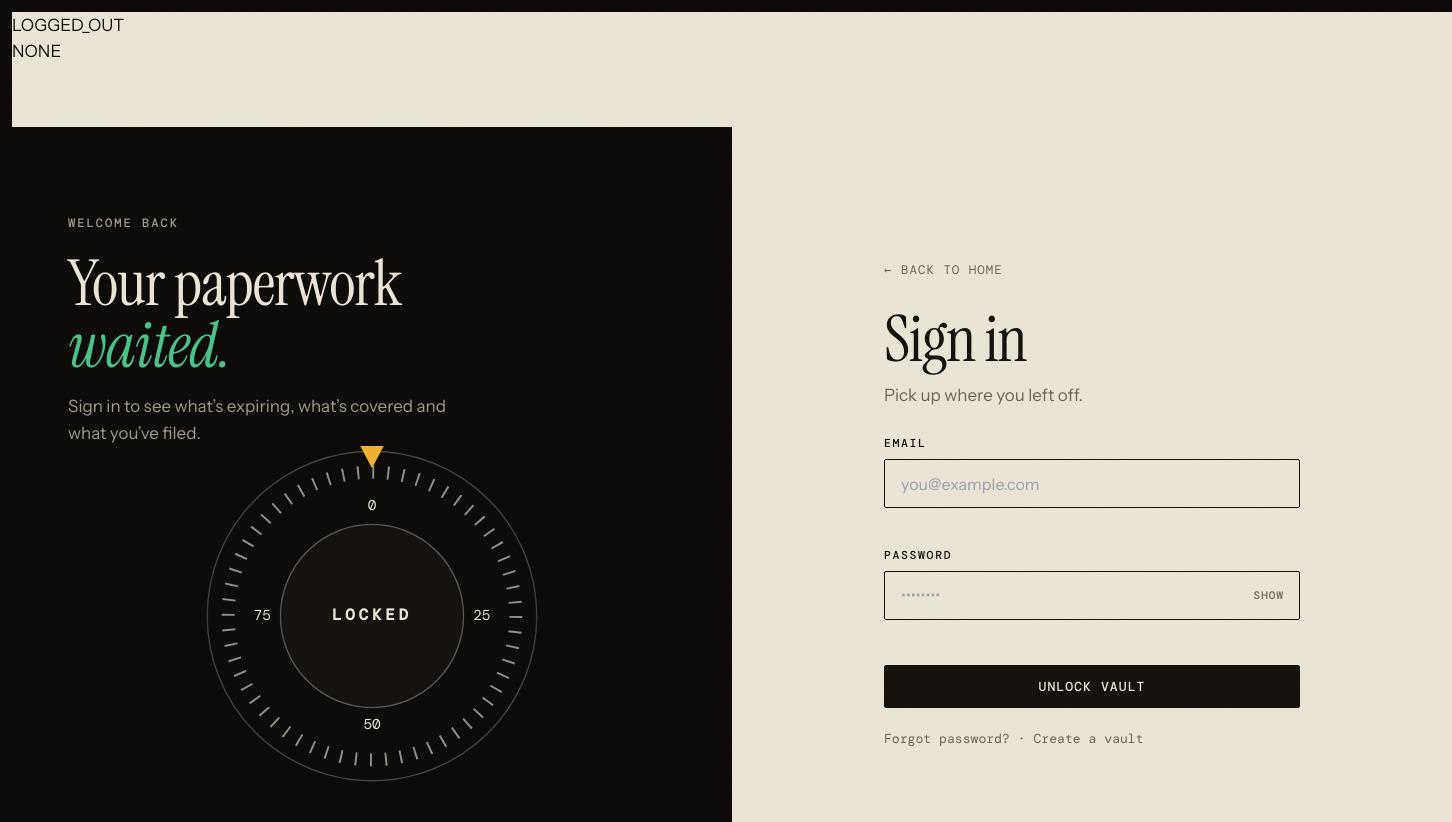
Scenario: Authentication Flow & Verification (Email & Password) › Checklist 4: Wrong password shows generic error and rejects login
Type "member@vault.com" into the field with placeholder "you@example.com" at coordinates (1092, 484), box x1=884 y1=459 x2=1300 y2=508
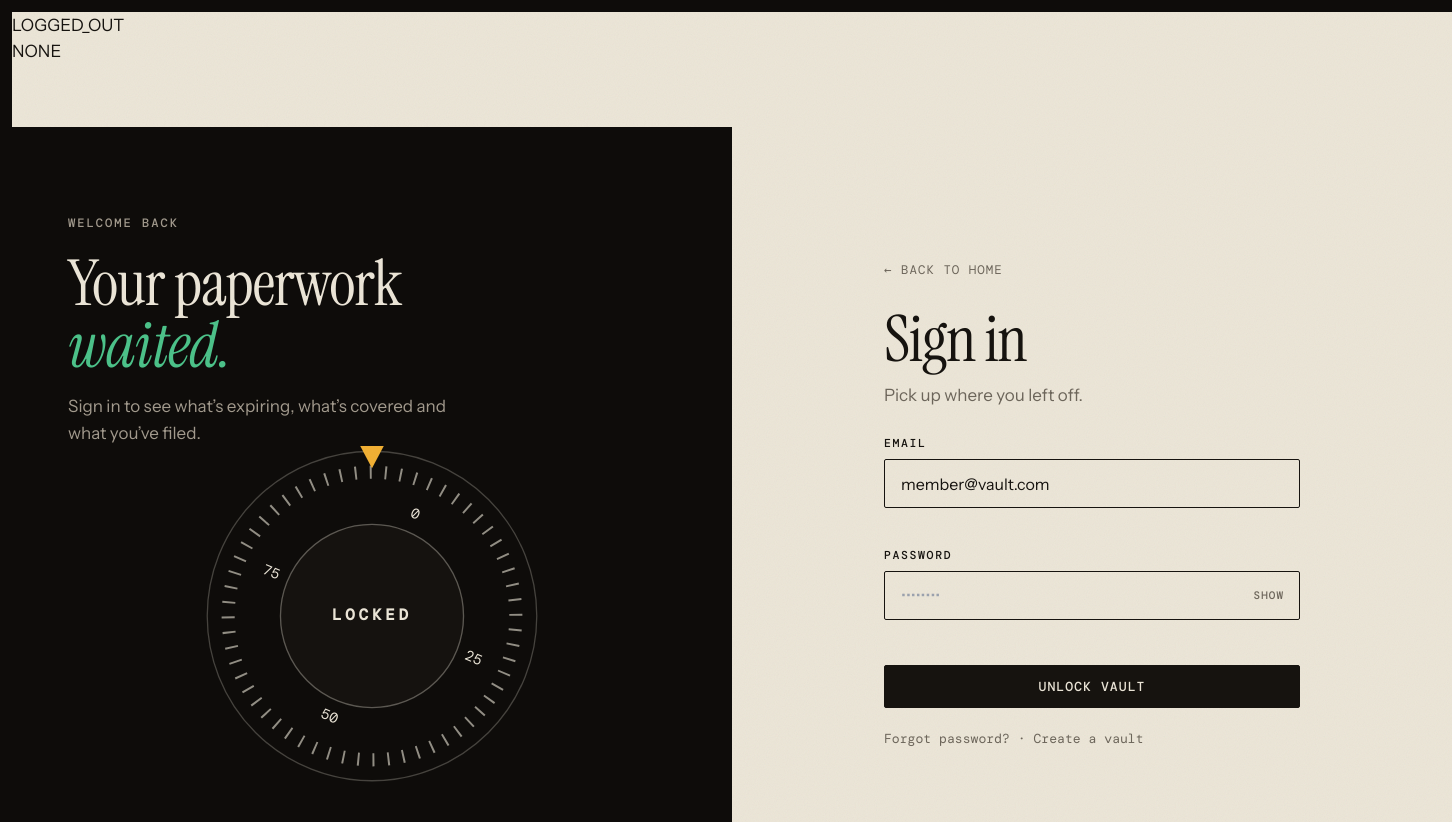
Type "WrongMasterKey99" into the password field with placeholder "••••••••" at coordinates (1092, 595), box x1=884 y1=571 x2=1300 y2=620
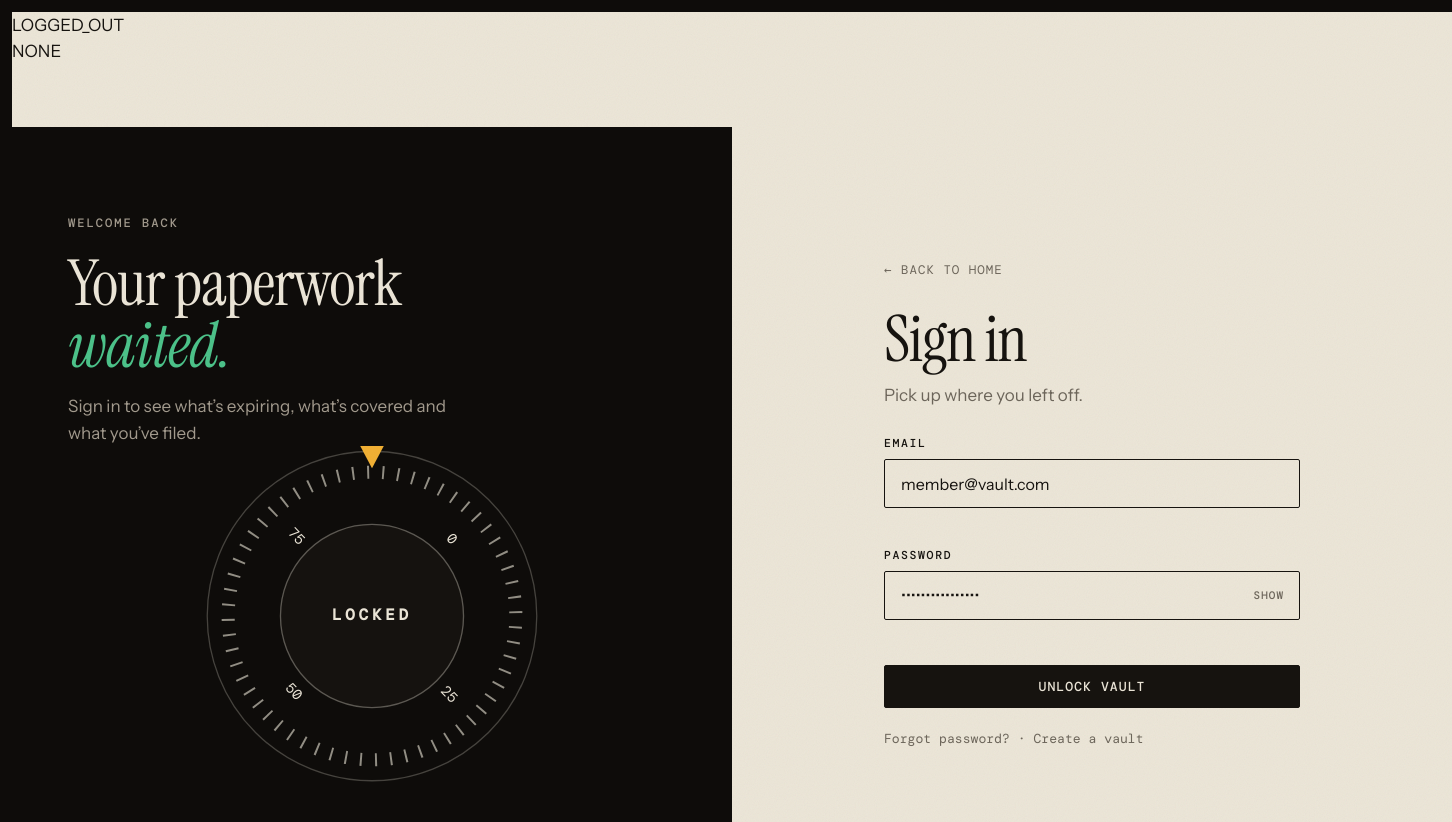
Click the button "Unlock vault" at coordinates (1092, 686), box x1=884 y1=665 x2=1300 y2=708
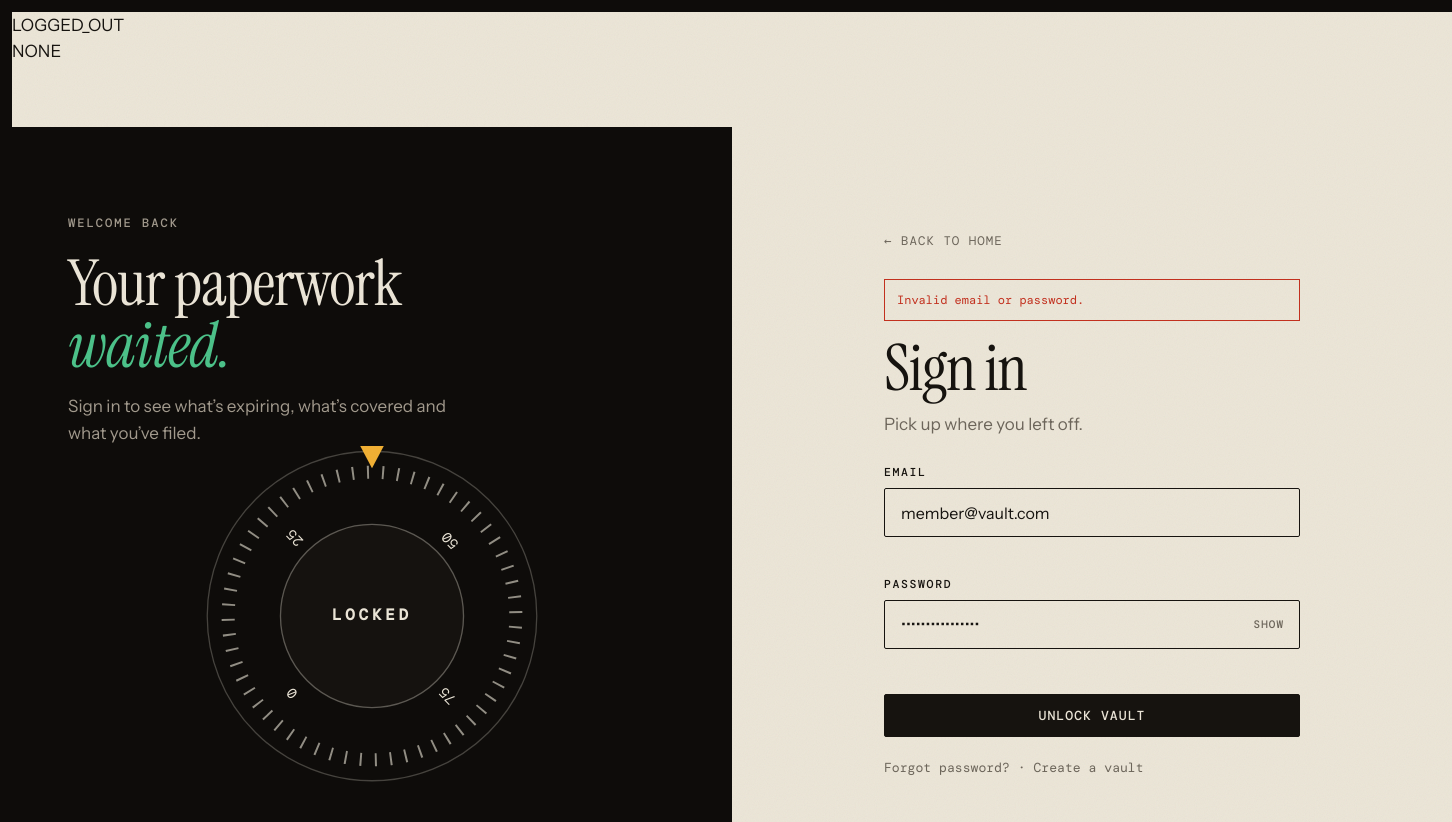
expect the text with test id "auth-status" reads "LOGGED_OUT": met, box x1=12 y1=15 x2=124 y2=35
expect the message shows "Invalid email or password": met, box x1=897 y1=292 x2=1084 y2=308
